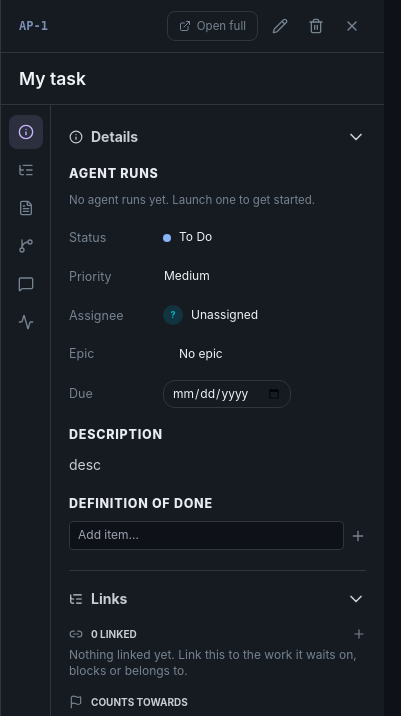
TaskDetailPanel — edit mode Branch & PR › renders Branch and PR as editable inputs in edit mode
Click the button titled "Edit": [280, 26] box x1=266 y1=12 x2=294 y2=40
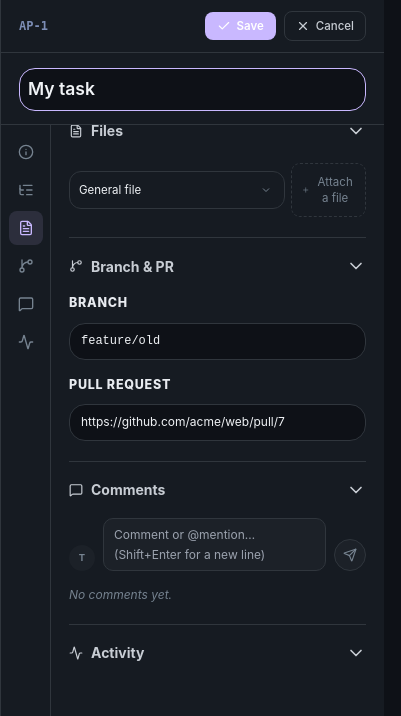
Expected: the field named "branch" holds "feature/old", x1=69 y1=323 x2=366 y2=360
Expected: the field named "Pull Request" holds "https://github.com/acme/web/pull/7", x1=69 y1=404 x2=366 y2=441
